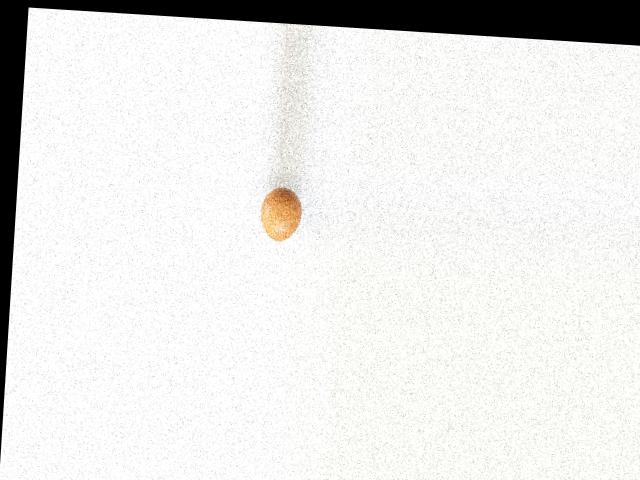egg: (259, 185, 304, 243)
